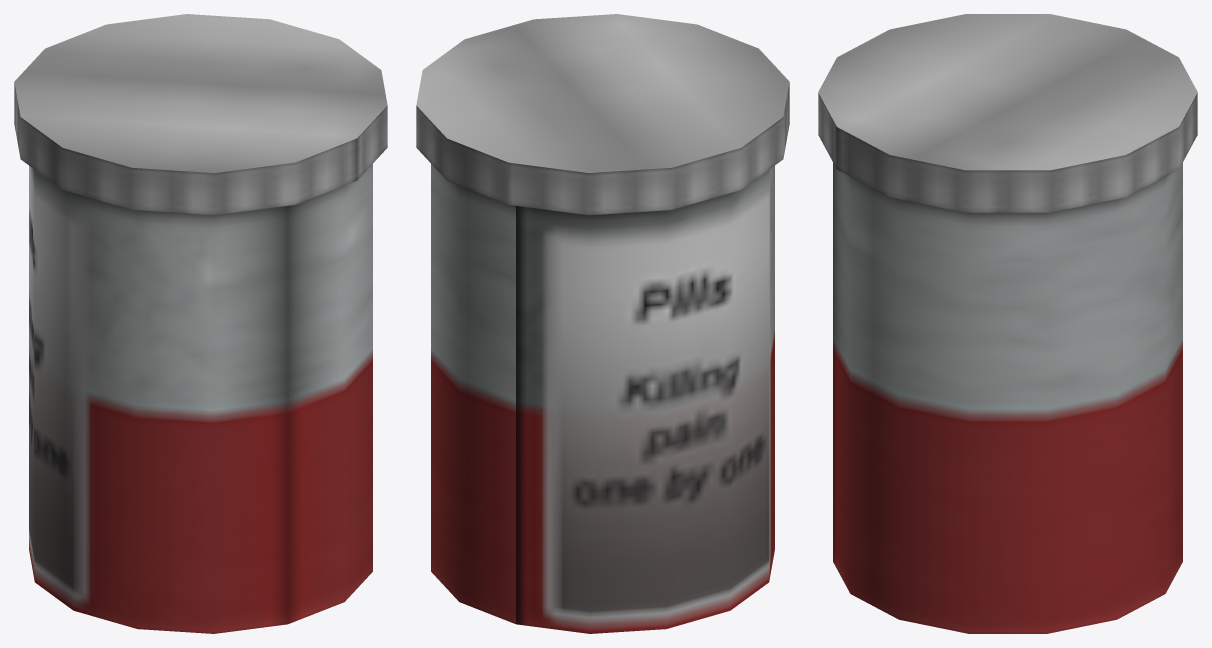
The model's file is Pills.fbx.
3 views of the same model, side by side, from view 1: azimuth 30°, elevation 25°; view 2: azimuth 150°, elevation 25°; view 3: azimuth 270°, elevation 25° (orthographic).
Parts seen in each view (by area): view 1: Pills; view 2: Pills; view 3: Pills.
Part boxes in pixels (left/top/right/bottom): Pills: left=14, top=14, right=387, bottom=633; Pills: left=416, top=14, right=789, bottom=633; Pills: left=818, top=14, right=1197, bottom=633.
Size of the model in its own units: 0.0438 by 0.0614 by 0.045.
